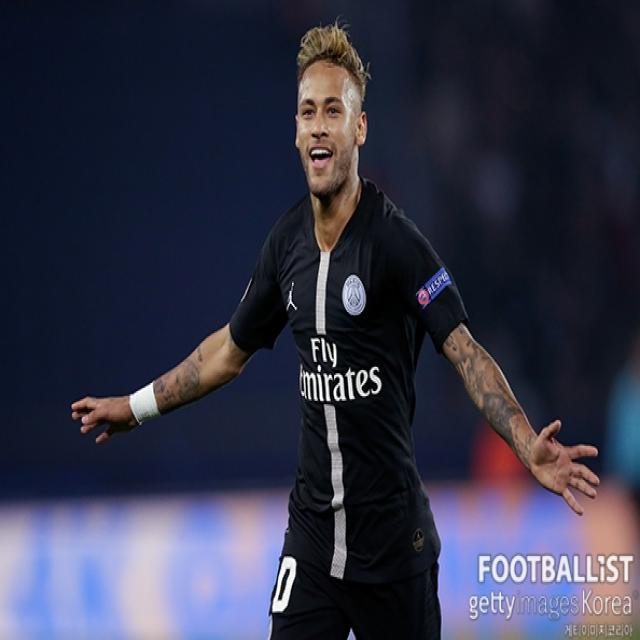neymar: (289, 49, 372, 202)
